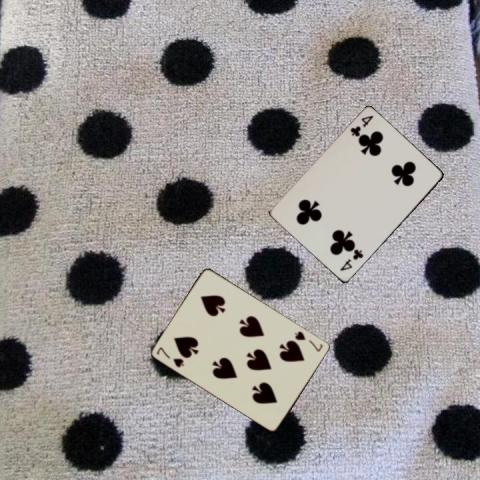4c: (336, 246, 364, 273), (348, 112, 376, 138)
7s: (292, 328, 325, 353), (154, 344, 186, 369)
